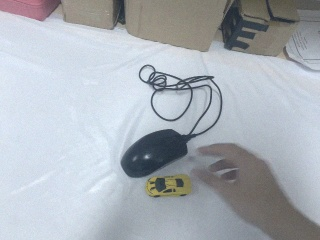box: (118, 1, 244, 52), (221, 1, 300, 59), (55, 1, 123, 30)
mouse: (120, 129, 188, 179)
toy_car: (145, 174, 192, 198)
